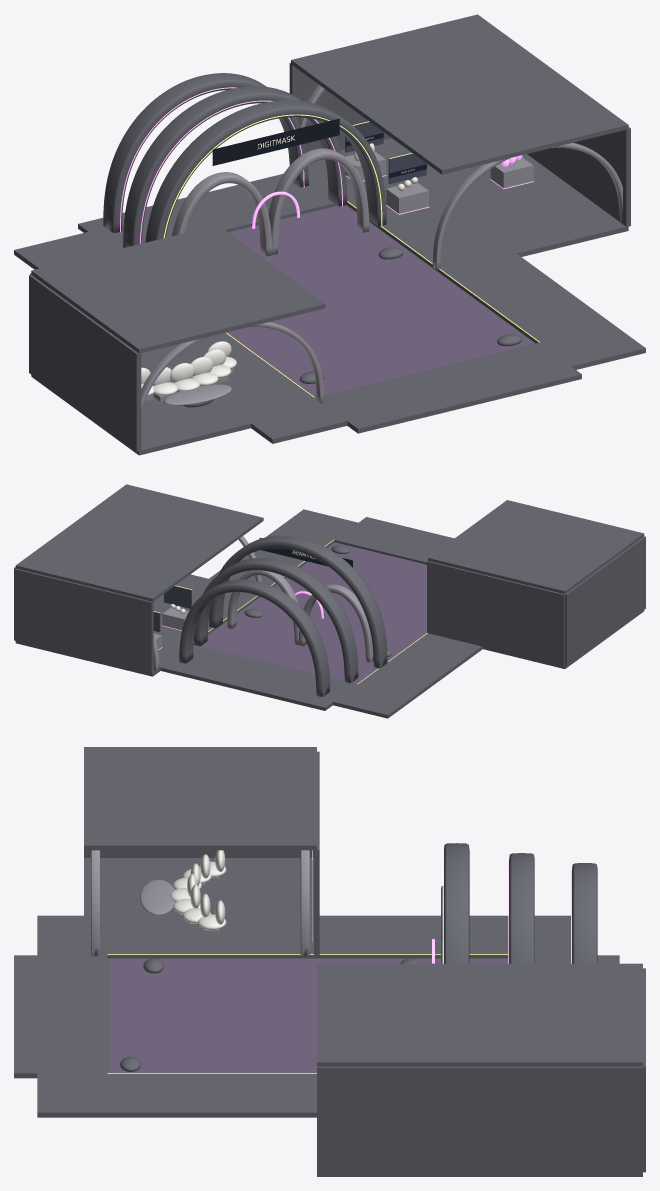
The model's file is digitmask-pavilion-mobile.glb.
3 renders of one model, top to bottom at view 1: azimuth 30°, elevation 25°; view 2: azimuth 150°, elevation 25°; view 3: azimuth 270°, elevation 25°, orthographic. The views are drawn at different scales.
Parts seen in each view (by area): view 1: Gallery_Canopy, Water_Surface_Runtime_Replace, Lounge_Canopy, Courtyard_Promenade_8, Lounge_Outer_Wall, Gallery_Floor, Courtyard_End_11, Courtyard_Promenade_-8, Lounge_Floor, Mask_Arch_0, Mask_Arch_1, Courtyard_End_-11 (+12 smaller); view 2: Gallery_Canopy, Water_Surface_Runtime_Replace, Lounge_Canopy, Gallery_Rear_Wall, Lounge_Rear_Wall, Lounge_Outer_Wall, Courtyard_Promenade_-8, Courtyard_End_-11, Mask_Arch_0, Mask_Arch_2, Mask_Arch_1, Courtyard_Promenade_8 (+8 smaller); view 3: Gallery_Outer_Wall, Gallery_Canopy, Lounge_Canopy, Water_Surface_Runtime_Replace, Courtyard_Promenade_-8, Lounge_Floor, Courtyard_Promenade_8, Courtyard_End_11, Mask_Arch_0, Mask_Arch_1, Mask_Arch_2, Lounge_Outer_Wall (+7 smaller).
Part boxes in pixels (x1,y1,x2,y2): Gallery_Canopy: [291, 14, 628, 174]; Water_Surface_Runtime_Replace: [226, 205, 534, 397]; Lounge_Canopy: [31, 225, 325, 353]; Courtyard_Promenade_8: [313, 159, 645, 369]; Lounge_Outer_Wall: [29, 275, 141, 451]; Gallery_Floor: [308, 138, 628, 271]; Courtyard_End_11: [315, 343, 581, 433]; Courtyard_Promenade_-8: [14, 232, 347, 443]; Lounge_Floor: [31, 332, 298, 455]; Mask_Arch_0: [145, 100, 386, 242]; Mask_Arch_1: [123, 86, 347, 247]; Courtyard_End_-11: [78, 173, 336, 250]; Gallery_Canopy: [15, 484, 263, 601]; Water_Surface_Runtime_Replace: [200, 543, 426, 684]; Lounge_Canopy: [428, 500, 644, 594]; Gallery_Rear_Wall: [14, 568, 153, 674]; Lounge_Rear_Wall: [427, 561, 564, 666]; Lounge_Outer_Wall: [565, 536, 645, 666]; Courtyard_Promenade_-8: [333, 633, 482, 718]; Courtyard_End_-11: [160, 645, 356, 710]; Mask_Arch_0: [209, 535, 387, 668]; Mask_Arch_2: [179, 579, 330, 696]; Mask_Arch_1: [193, 558, 358, 682]; Courtyard_Promenade_8: [157, 509, 357, 661]; Gallery_Outer_Wall: [317, 1066, 642, 1173]; Gallery_Canopy: [317, 963, 642, 1066]; Lounge_Canopy: [84, 747, 316, 850]; Water_Surface_Runtime_Replace: [109, 959, 508, 1072]; Courtyard_Promenade_-8: [37, 915, 570, 958]; Lounge_Floor: [84, 858, 316, 958]; Courtyard_Promenade_8: [37, 1073, 316, 1117]; Courtyard_End_11: [14, 955, 107, 1078]; Mask_Arch_0: [444, 843, 469, 963]; Mask_Arch_1: [509, 853, 534, 963]; Mask_Arch_2: [572, 863, 597, 963]; Lounge_Outer_Wall: [84, 850, 313, 857].
Size of the model in its own units: 32.25 by 7.88 by 27.12.
13 materials, 5 textured.
